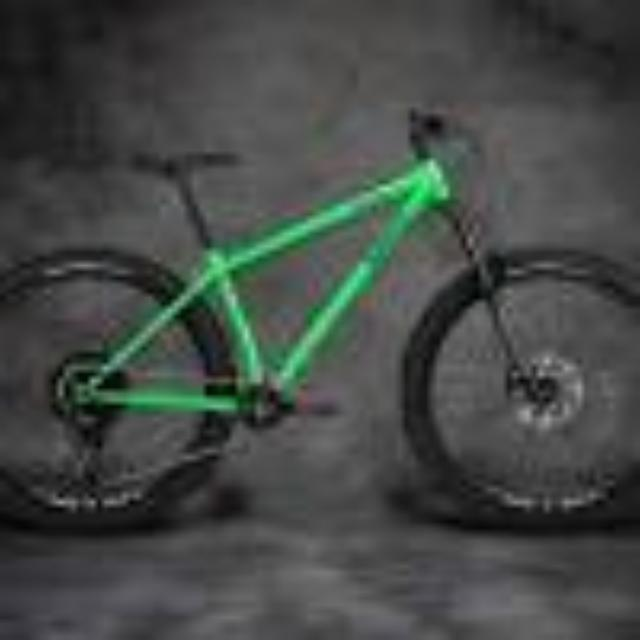obstacle: (2, 71, 640, 536)
